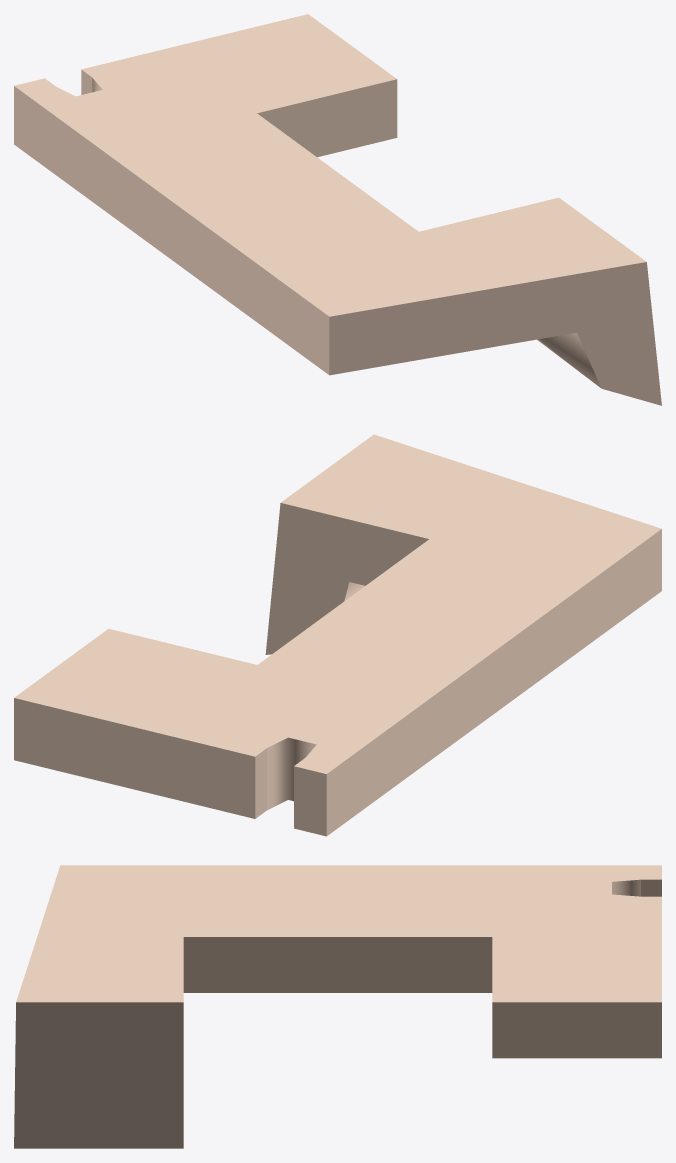
File: Marteau - plaque_Quart - Q.dessus.obj
3 views of the same model, one above another, from view 1: azimuth 30°, elevation 25°; view 2: azimuth 150°, elevation 25°; view 3: azimuth 270°, elevation 25° (orthographic). The views are drawn at different scales.
Parts seen in each view (by area): view 1: Face_3, Face_15, Face_1, Face_9, Face_4; view 2: Face_3, Face_1, Face_6, Face_11, Face_7, Face_12, Face_13; view 3: Face_3, Face_5, Face_10, Face_8, Face_12.
Boxes of the visible parts, x1,y1,x2,y2 form: Face_3: [14, 14, 646, 316]; Face_15: [329, 262, 661, 405]; Face_1: [14, 86, 329, 374]; Face_9: [257, 79, 397, 157]; Face_4: [537, 332, 600, 387]; Face_3: [14, 434, 661, 773]; Face_1: [326, 529, 661, 835]; Face_6: [14, 698, 255, 818]; Face_11: [265, 503, 428, 654]; Face_7: [294, 766, 326, 836]; Face_12: [267, 737, 316, 810]; Face_13: [255, 748, 266, 818]; Face_3: [16, 865, 661, 1002]; Face_5: [14, 1002, 183, 1148]; Face_10: [183, 937, 492, 992]; Face_8: [492, 1002, 661, 1058]; Face_12: [612, 879, 640, 896].
Bounding box in the file's own units: 0.011 × 0.005 × 0.021.
